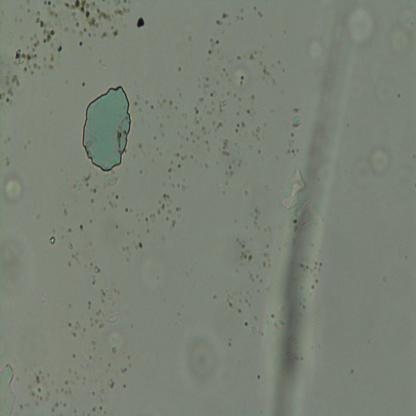Background material: (270, 21, 359, 414), (172, 3, 266, 187), (54, 284, 133, 415), (13, 1, 125, 72), (224, 212, 275, 322), (81, 84, 132, 170), (122, 194, 184, 251), (0, 233, 39, 294), (184, 333, 221, 384), (388, 6, 416, 56), (345, 5, 378, 45), (277, 166, 305, 213), (134, 251, 168, 289), (23, 367, 53, 410), (0, 362, 21, 414), (367, 144, 394, 178), (100, 170, 119, 211), (130, 92, 168, 112), (0, 74, 21, 108), (3, 175, 28, 202), (286, 116, 302, 157), (72, 173, 97, 197), (63, 244, 83, 267), (84, 262, 101, 285), (132, 13, 148, 33), (47, 233, 57, 246), (2, 158, 14, 168), (78, 219, 86, 233), (167, 167, 173, 176)
